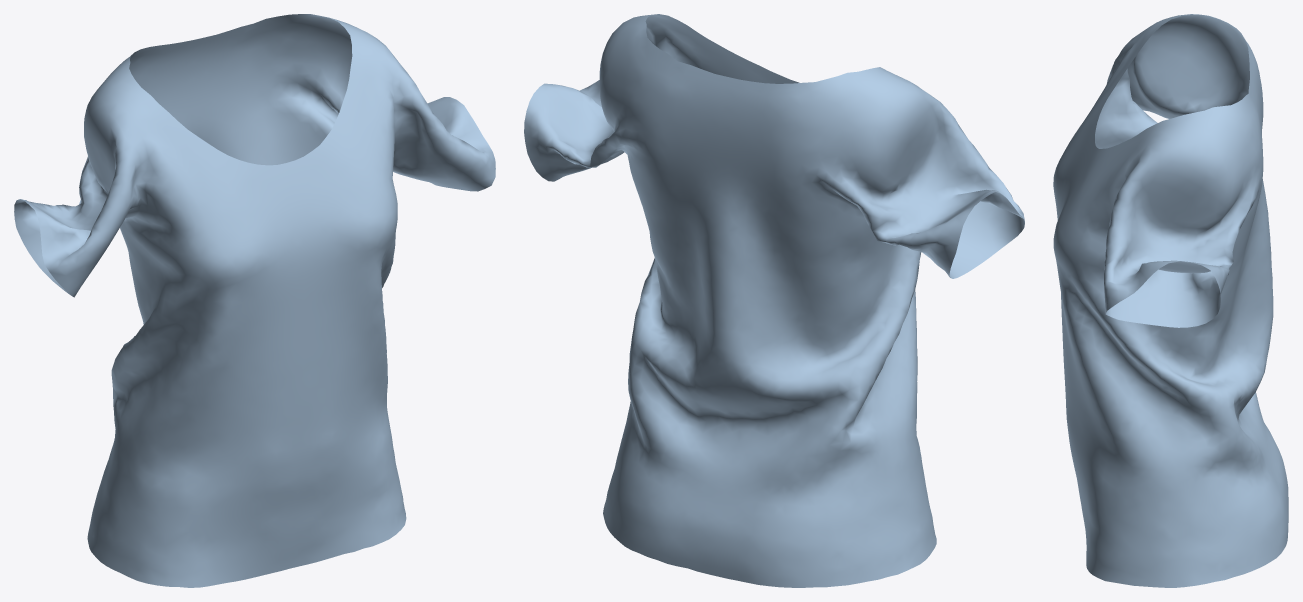
Rendered from tee_XS.glb.
The picture shows the model from 3 angles, left to right: view 1: azimuth 30°, elevation 25°; view 2: azimuth 150°, elevation 25°; view 3: azimuth 270°, elevation 25°; orthographic projection. The views are drawn at different scales.
Visible parts, largest first — view 1: geometry_0; view 2: geometry_0; view 3: geometry_0.
Part boxes in pixels (left/top/right/bottom): geometry_0: left=14, top=14, right=495, bottom=587; geometry_0: left=524, top=14, right=1024, bottom=587; geometry_0: left=1053, top=14, right=1288, bottom=587.
Bounding box in the file's own units: 0.5325 × 0.5498 × 0.2508.
